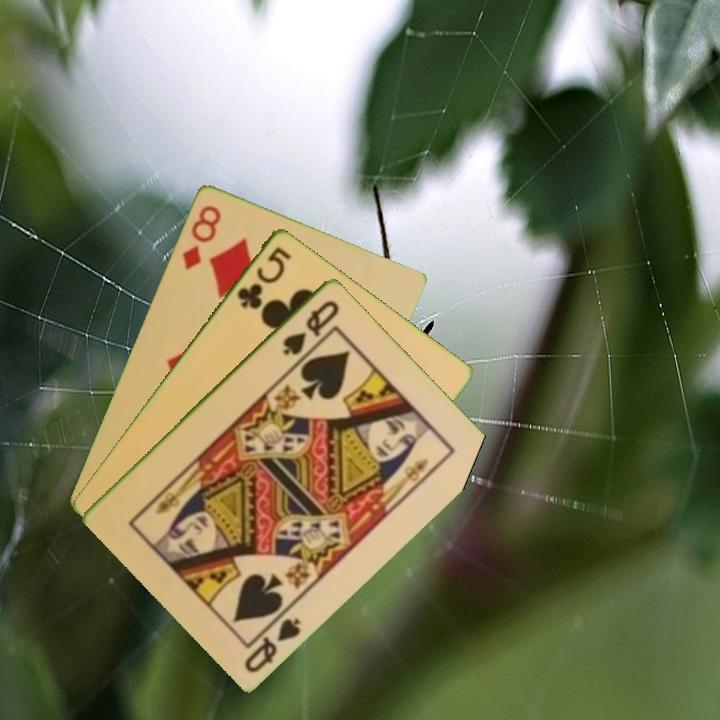5c: (233, 242, 294, 312)
8d: (178, 201, 224, 272)
Qs: (240, 613, 304, 676), (279, 296, 342, 358)
